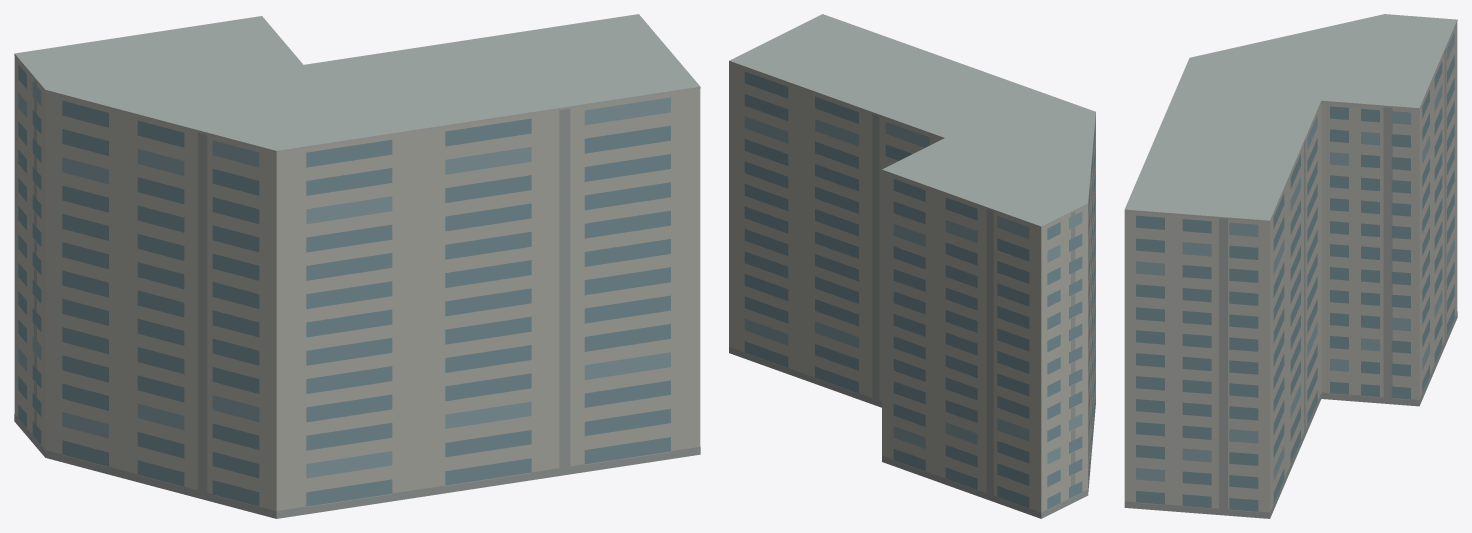
Rendered from residential-fda8fb51-72ed-4dde-a193-b90bb338e16a.glb.
3 views of the same model, side by side, from view 1: azimuth 30°, elevation 25°; view 2: azimuth 150°, elevation 25°; view 3: azimuth 270°, elevation 25° (orthographic). The views are drawn at different scales.
Visible parts, largest first — view 1: residential-fda8fb51-72ed-4dde-a193-b90bb338e16a.tmp; view 2: residential-fda8fb51-72ed-4dde-a193-b90bb338e16a.tmp; view 3: residential-fda8fb51-72ed-4dde-a193-b90bb338e16a.tmp.
Part boxes in pixels (x1,y1,x2,y2): residential-fda8fb51-72ed-4dde-a193-b90bb338e16a.tmp: [14, 14, 700, 518]; residential-fda8fb51-72ed-4dde-a193-b90bb338e16a.tmp: [729, 14, 1095, 518]; residential-fda8fb51-72ed-4dde-a193-b90bb338e16a.tmp: [1124, 14, 1457, 518].
Bounding box in the file's own units: 62.44 × 42 × 42.5.
